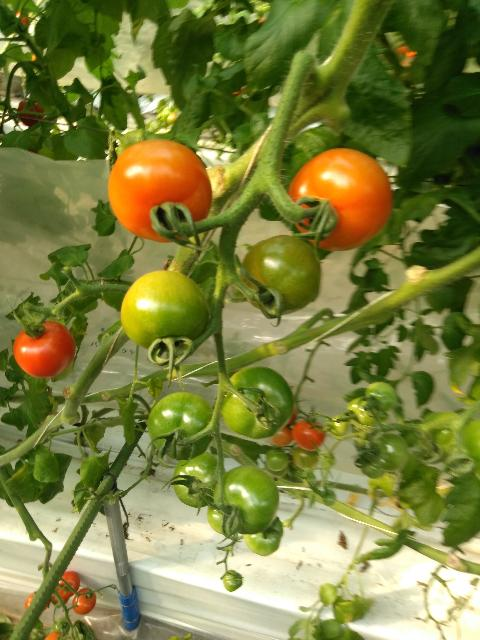l_fully_ripened: (287, 147, 393, 252), (12, 321, 76, 378), (291, 420, 325, 451), (55, 570, 80, 599)
l_green: (120, 270, 209, 352), (240, 235, 321, 316), (221, 366, 295, 440), (148, 391, 214, 461), (213, 464, 279, 534), (173, 451, 226, 508), (242, 515, 283, 557), (373, 433, 407, 473), (364, 382, 396, 412), (207, 503, 236, 535), (293, 445, 320, 470), (265, 450, 288, 472), (364, 458, 386, 479), (223, 570, 243, 592), (330, 414, 347, 436)
l_half_ripened: (107, 139, 213, 244), (72, 588, 97, 615), (269, 427, 293, 447)
